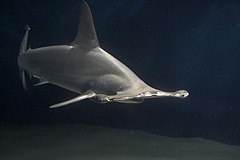Hammer: (6, 1, 199, 123), (26, 15, 196, 95)
